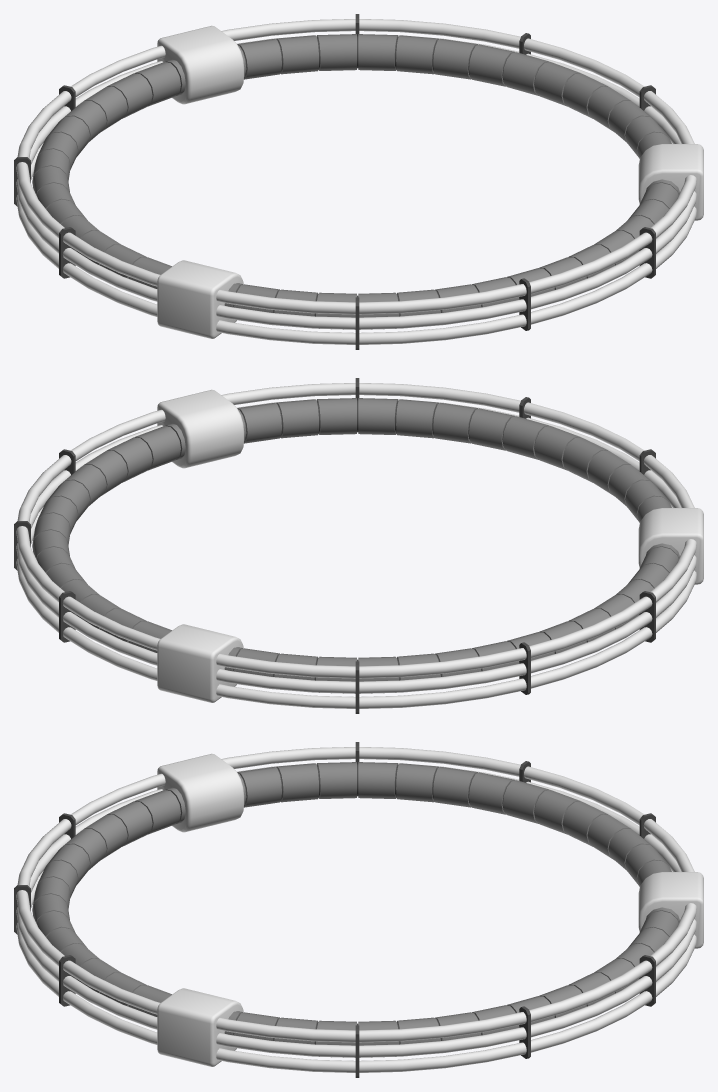
The model's file is portal1_3.obj.
The picture shows the model from 3 angles, top to bottom: view 1: azimuth 30°, elevation 25°; view 2: azimuth 150°, elevation 25°; view 3: azimuth 270°, elevation 25°; orthographic projection.
Parts seen in each view (by area): view 1: portal1.003; view 2: portal1.003; view 3: portal1.003.
Boxes of the visible parts, x1,y1,x2,y2 form: portal1.003: [14, 14, 703, 349]; portal1.003: [14, 378, 703, 713]; portal1.003: [14, 742, 703, 1077].
Size of the model in its own units: 98.75 by 8.13 by 99.15.
Materials: 1 (1 with a texture image).
